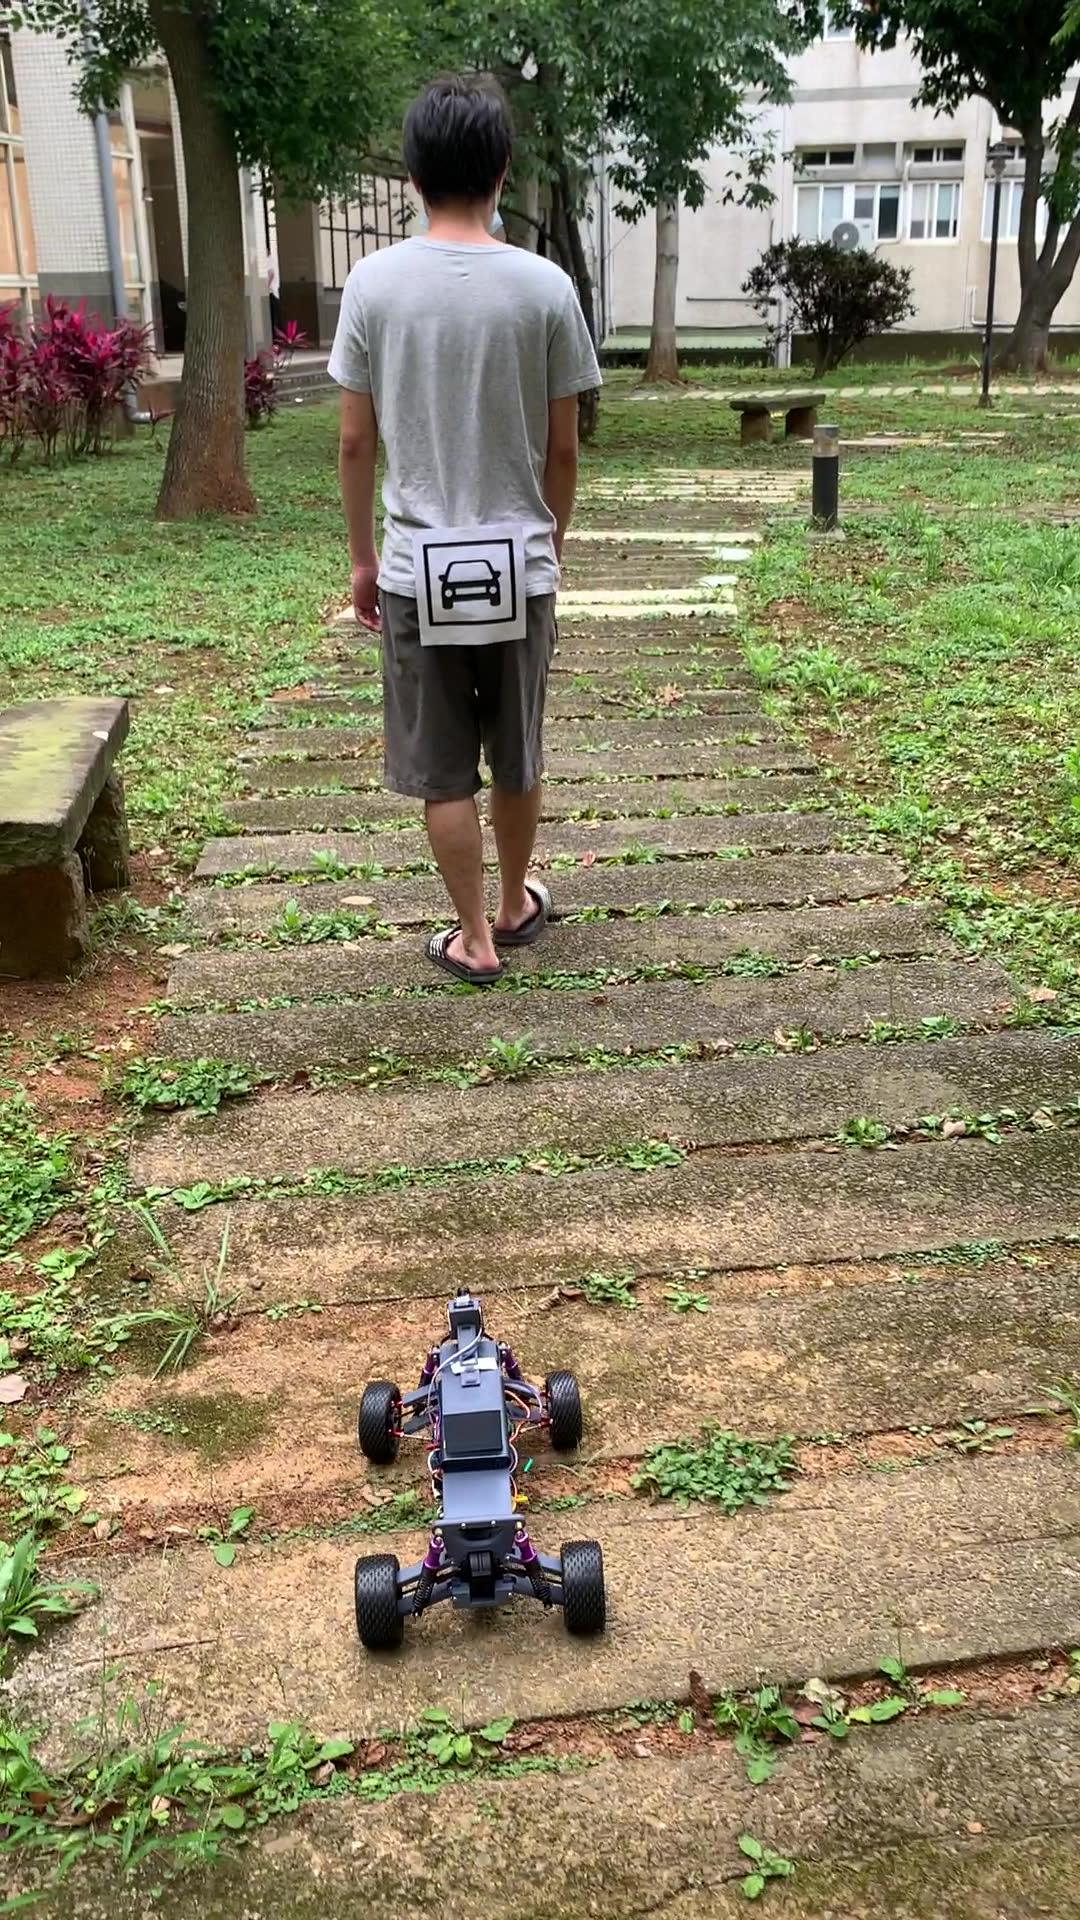car_img: (422, 537, 517, 628)
